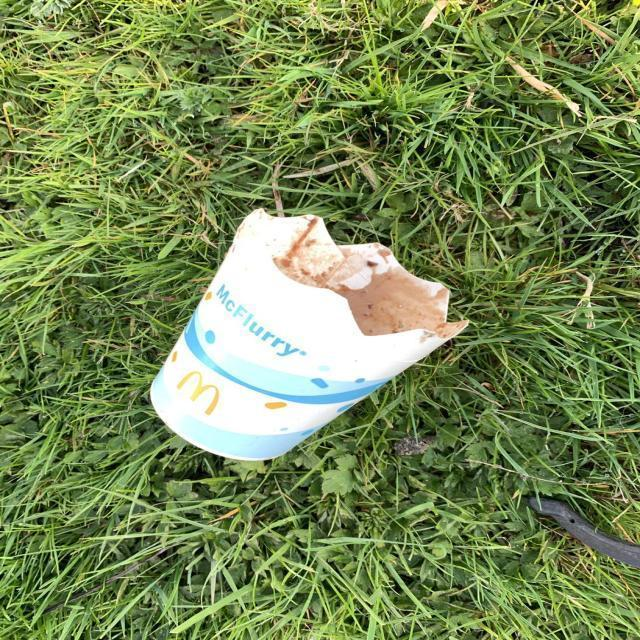Paper: (147, 207, 470, 466)
